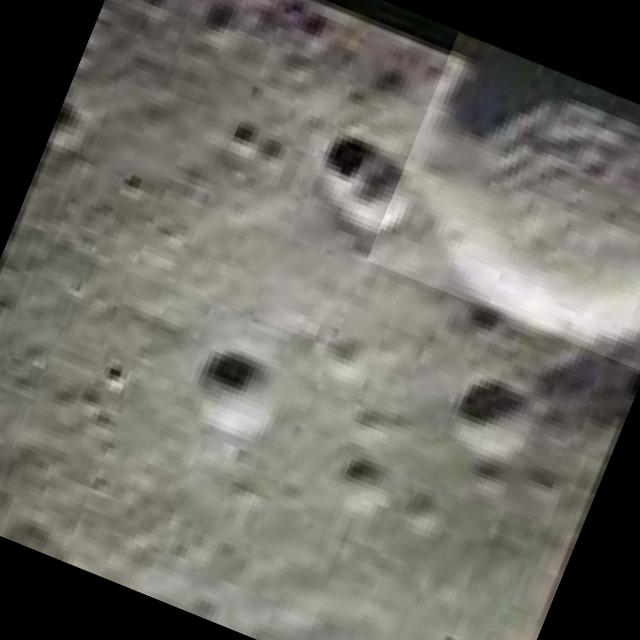crater: (365, 32, 640, 372), (310, 128, 434, 238), (179, 341, 283, 440), (444, 374, 544, 468)
